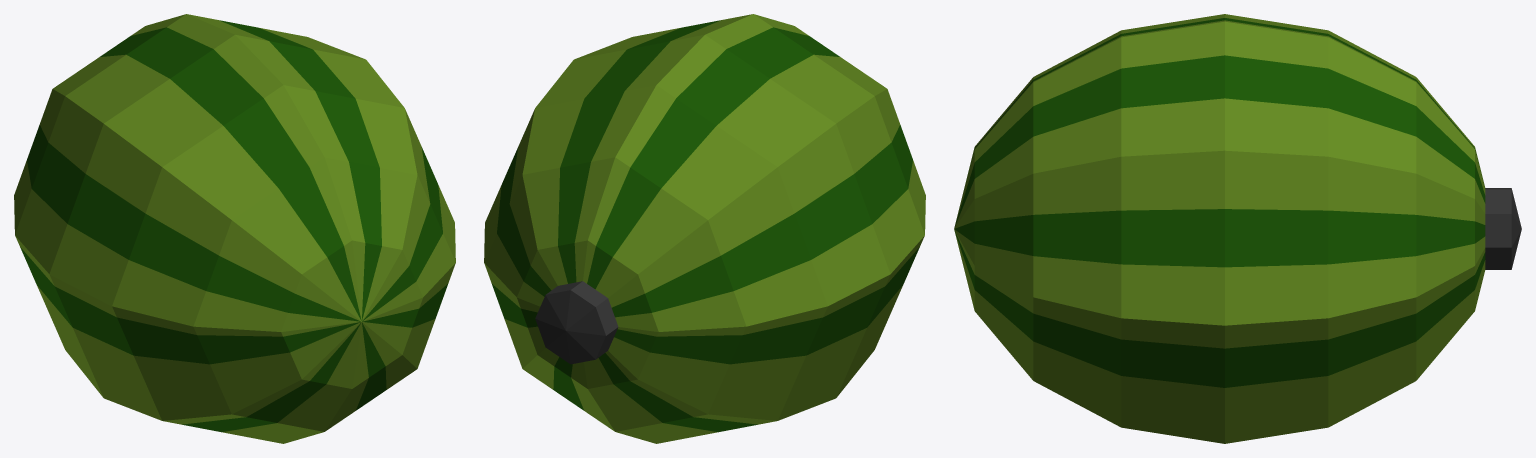
File: Watermelon.fbx
The picture shows the model from 3 angles, left to right: view 1: azimuth 30°, elevation 25°; view 2: azimuth 150°, elevation 25°; view 3: azimuth 270°, elevation 25°; orthographic projection. The views are drawn at different scales.
Visible parts, largest first — view 1: Watermelon; view 2: Watermelon; view 3: Watermelon.
Part boxes in pixels (x1,y1,x2,y2): Watermelon: [14, 14, 455, 443]; Watermelon: [484, 14, 925, 443]; Watermelon: [954, 14, 1521, 443].
Bounding box in the file's own units: 0.4039 × 0.3255 × 0.3255.
